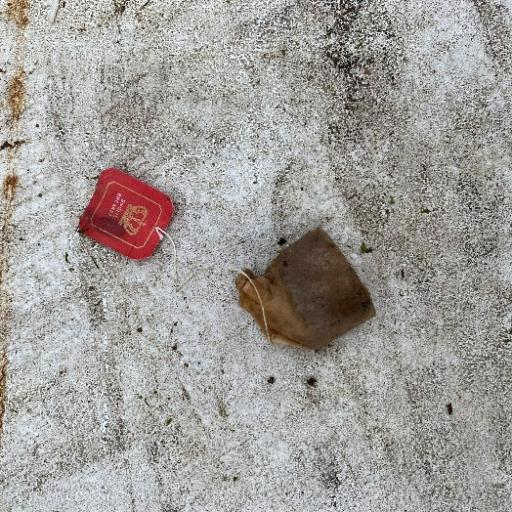Waste: (233, 224, 377, 352), (75, 166, 176, 261)
